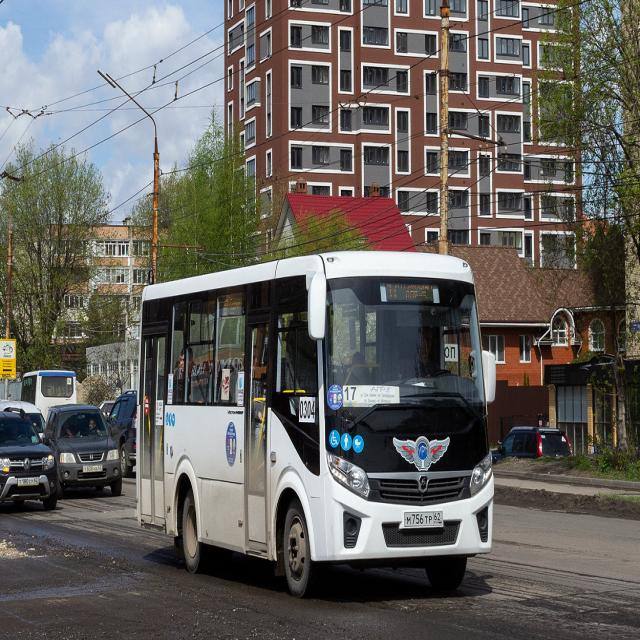number-of-bus: (344, 385, 359, 404)
